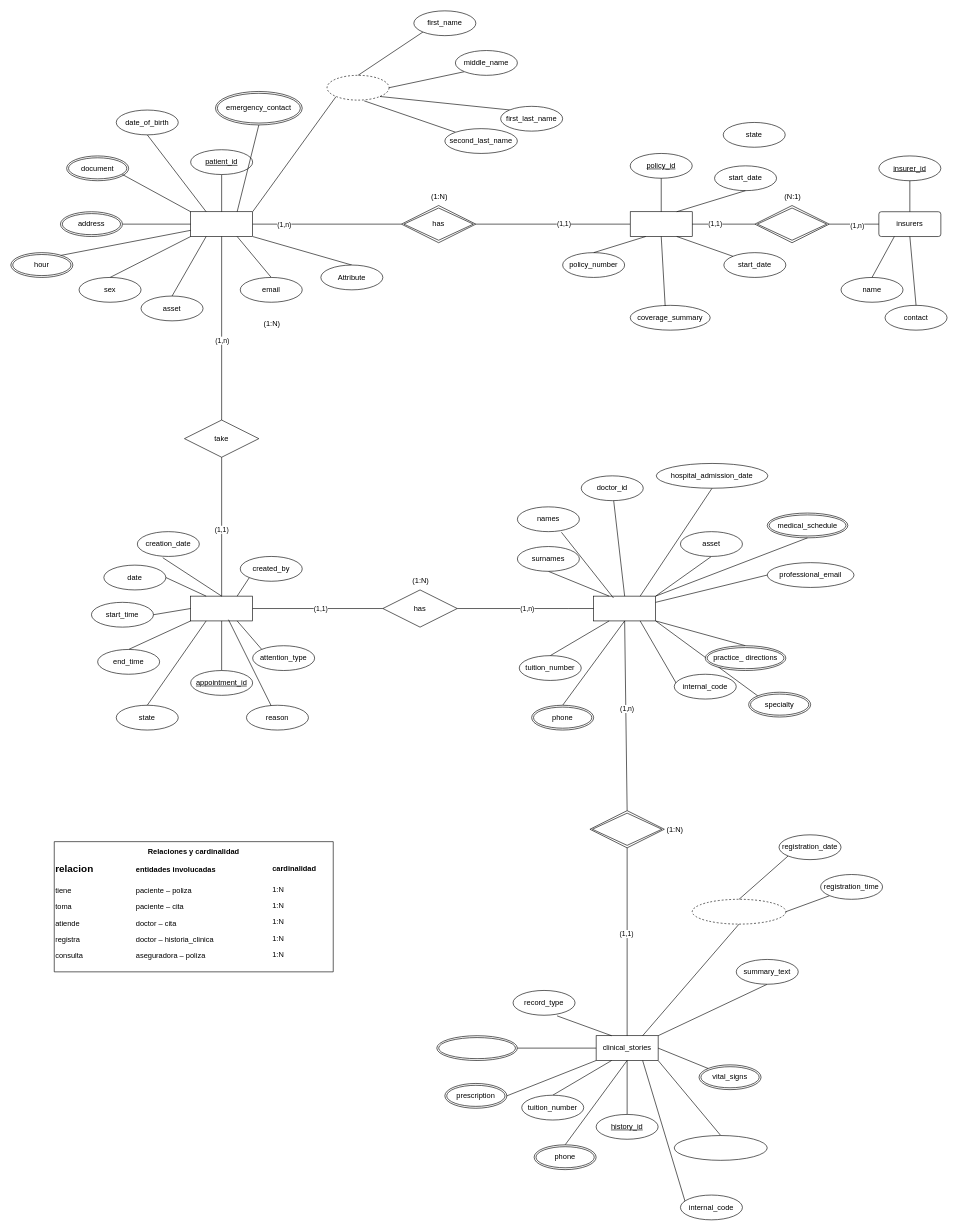
Image size: 958x1231. Some labels were removed from this diagram. Each missing label, with the centre of its shape:
"consultation" goes at [791,224].
"date_time_registration" goes at [739,911].
"doctors" goes at [624,608].
"full_name" goes at [357,87].
"history_diagnosis" goes at [476,1048].
"patients" goes at [221,224].
"policies" goes at [661,224].
"quotes" goes at [221,608].
"register" goes at [626,829].
"structured_summary" goes at [720,1147].
